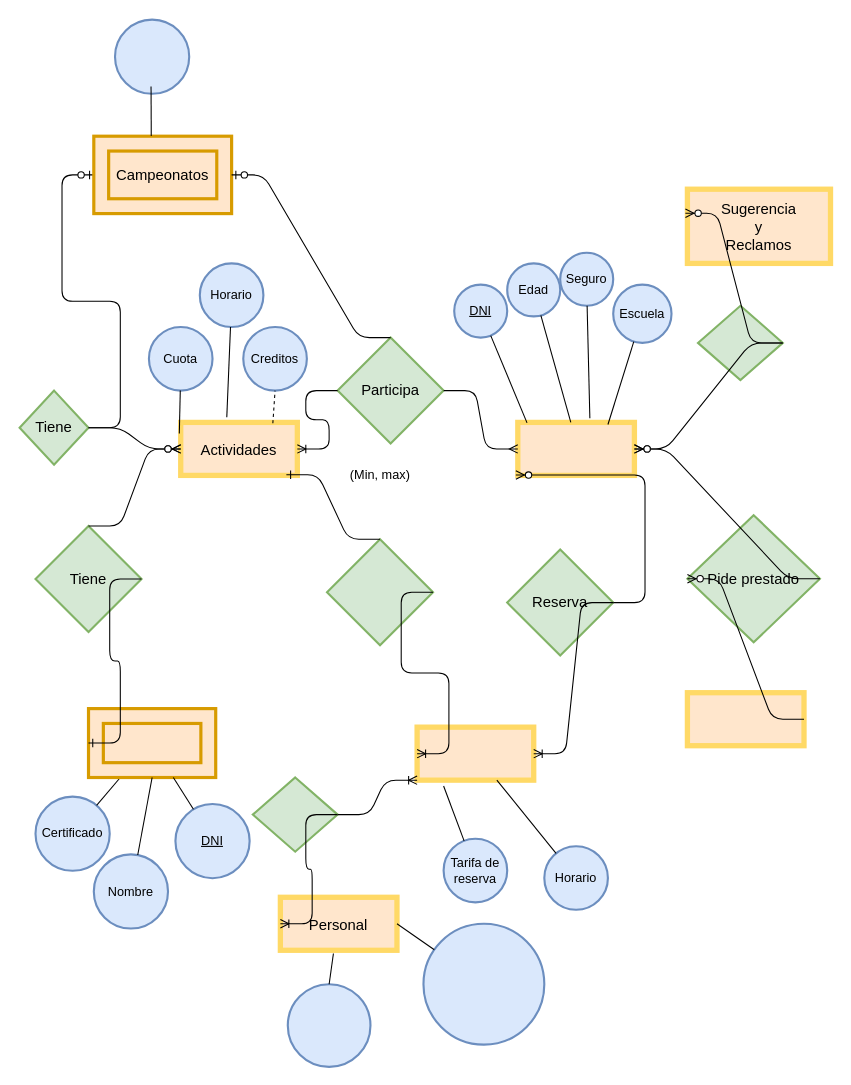
This 851x1085 diagram has some shape labels left out. The centre of each missing label's shape, as x and y in pixels:
"Categoria" goes at (x=151, y=56).
"Consulta" goes at (x=294, y=814).
"Envia" goes at (x=739, y=342).
"Instalaciones" goes at (x=475, y=753).
"Material" goes at (x=745, y=719).
"Monitor" goes at (x=151, y=742).
"Permisos" goes at (x=328, y=1025).
"Responsabilidades" goes at (x=483, y=983).
"Usa" goes at (x=379, y=592).
"Usuario" goes at (x=576, y=448).
